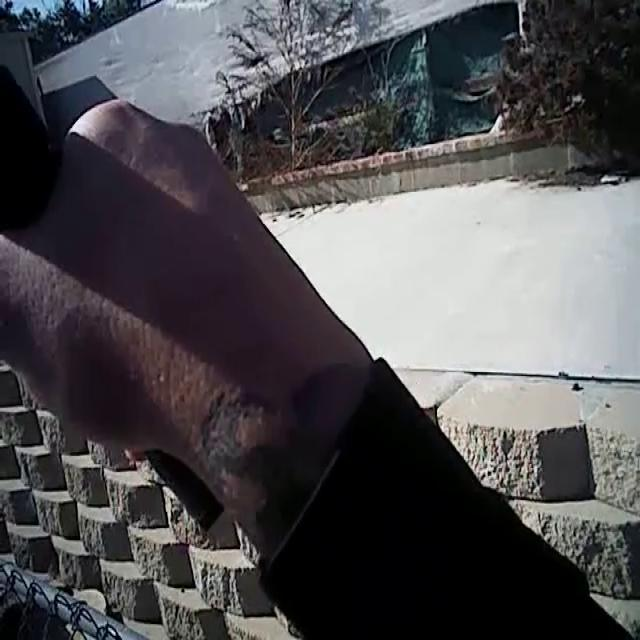gun: (0, 0, 246, 601)
